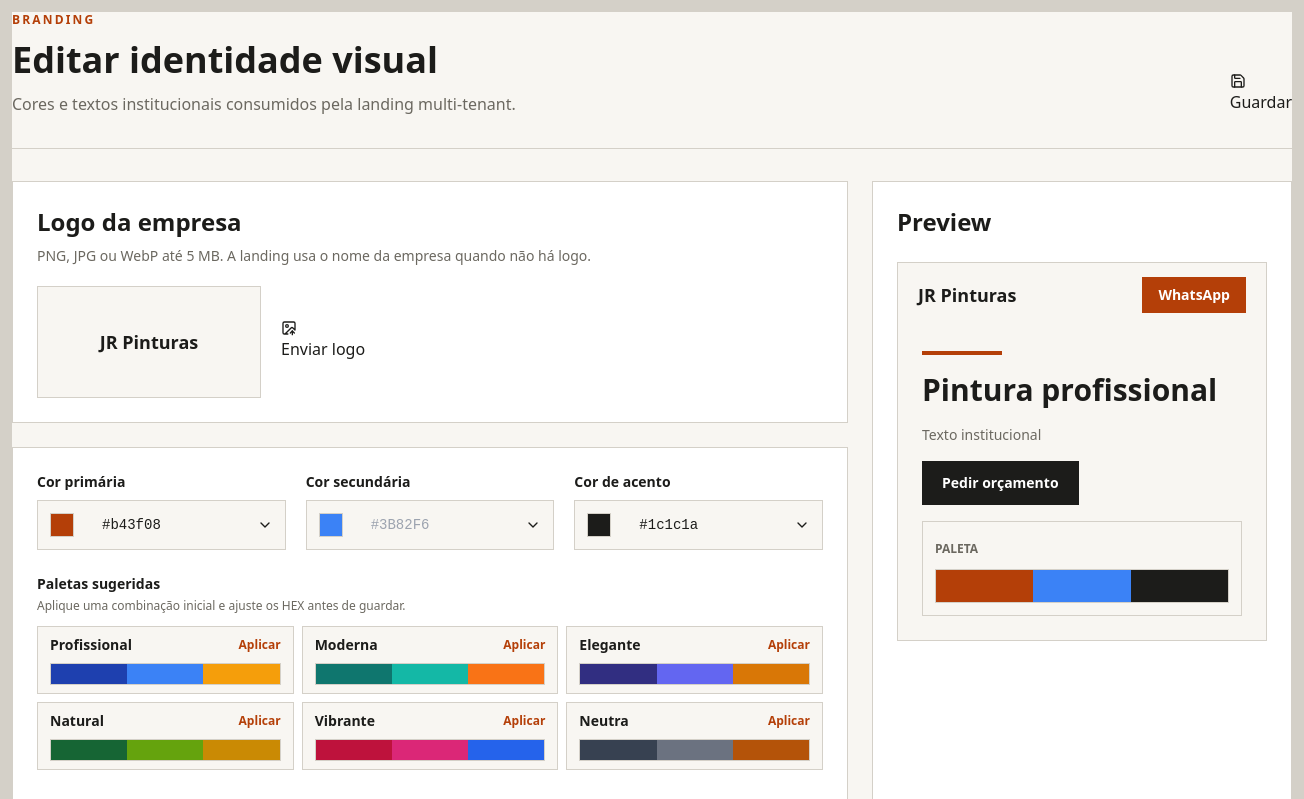
Scenario: BrandingPage color picker › applies a palette to all three color fields, marks the form dirty, and updates preview without saving
This screenshot has width=1304, height=799.
Expected: the heading "Editar identidade visual" is shown, [12,35,438,84]
What coordinates should you click on to do the following:
click the button "Moderna Aplicar"
I would click on:
 (430, 660)
Its box is [302,626,558,694].
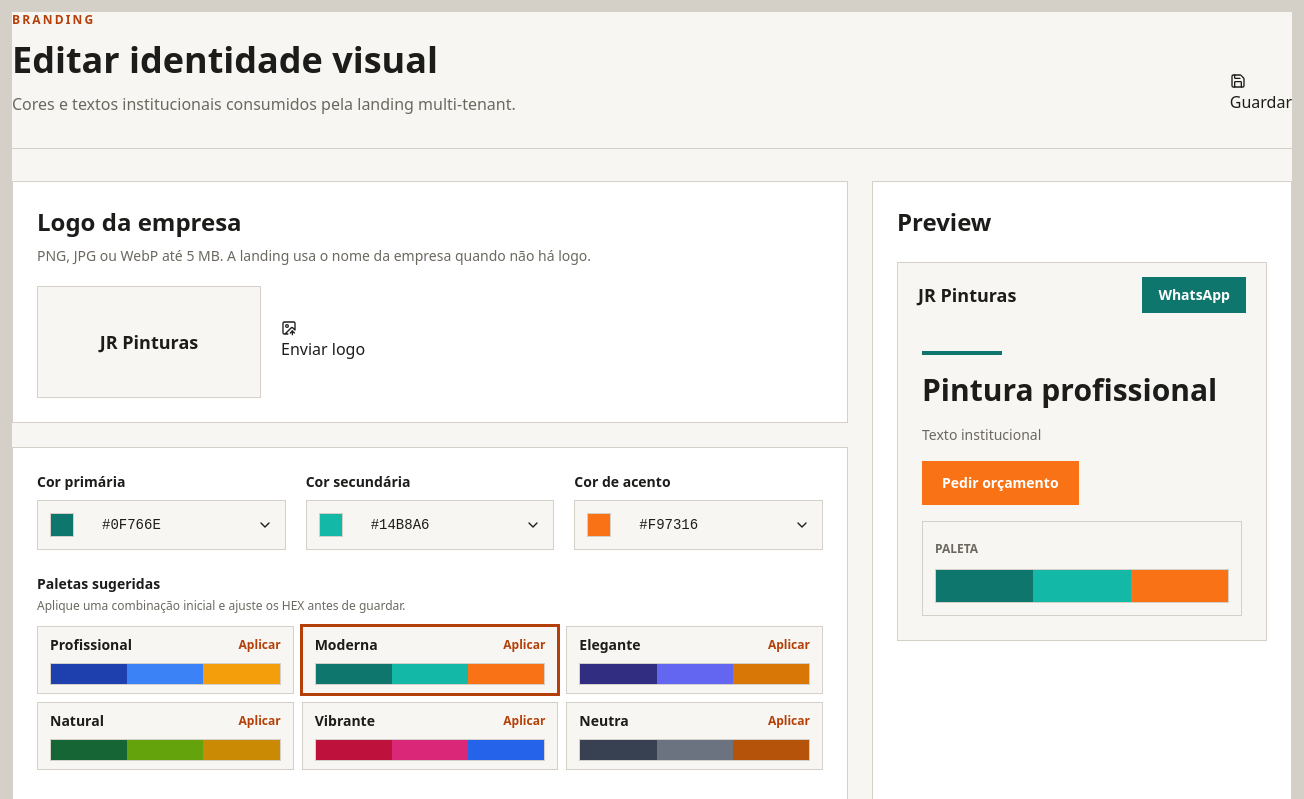
Expected: the field labelled "Cor primária" holds "#0F766E", [86,501,245,549]
Expected: the field labelled "Cor secundária" holds "#14B8A6", [355,501,513,549]
Expected: the field labelled "Cor de acento" holds "#F97316", [623,501,782,549]
